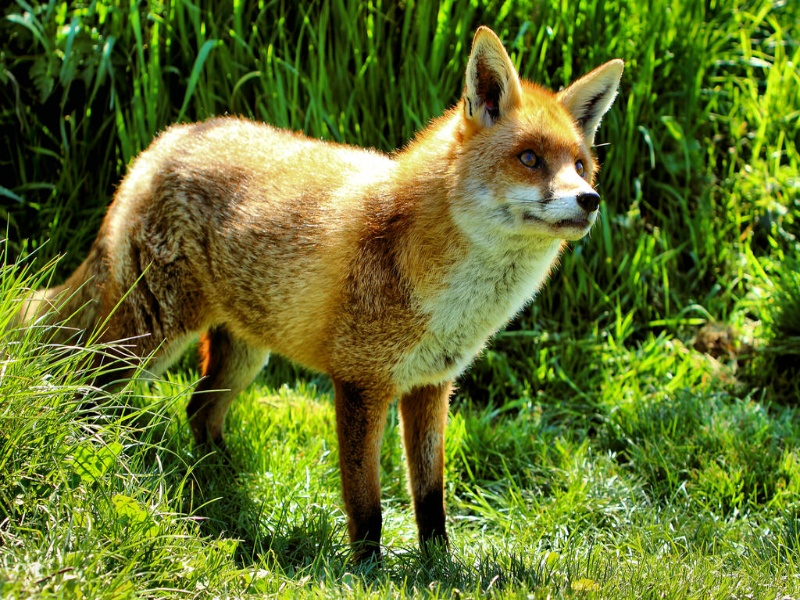fox: (11, 28, 632, 567)
